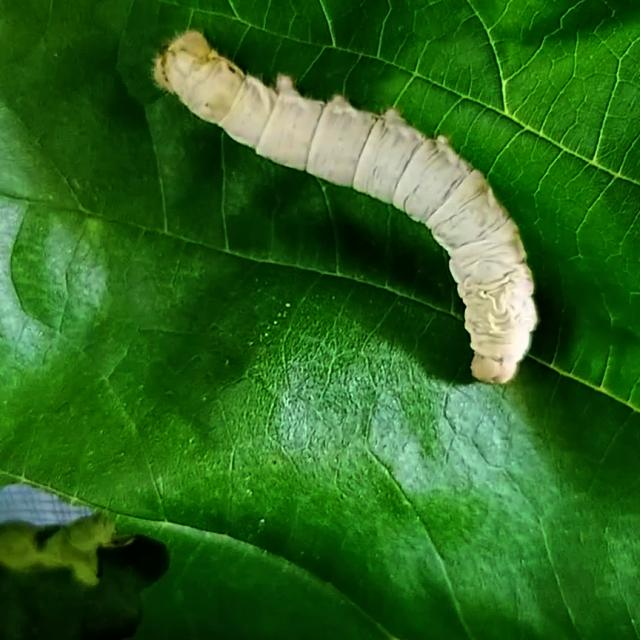Grasserie: (151, 24, 563, 392)
